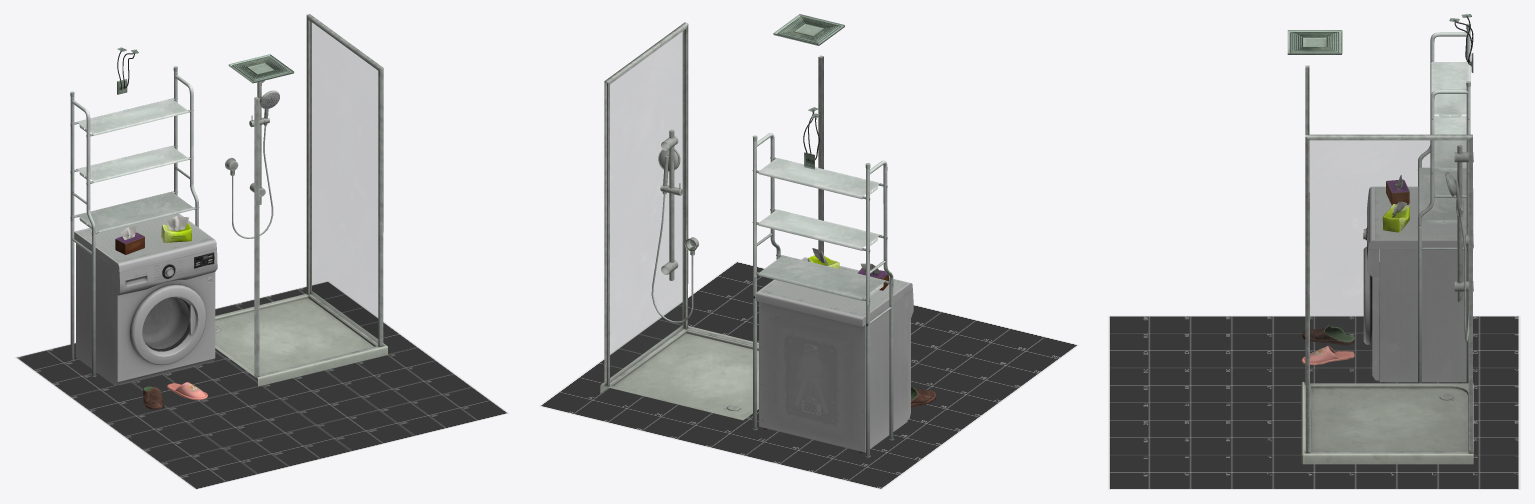
Rendered from bathroomset.glb.
3 renders of one model, left to right at view 1: azimuth 30°, elevation 25°; view 2: azimuth 150°, elevation 25°; view 3: azimuth 270°, elevation 25°, orthographic. The views are drawn at different scales.
Parts seen in each view (by area): view 1: Plane.001; view 2: Plane.001; view 3: Plane.001.
Part boxes in pixels (x1=…): Plane.001: x1=15, y1=14, x2=509, y2=489; Plane.001: x1=539, y1=14, x2=1078, y2=489; Plane.001: x1=1108, y1=14, x2=1520, y2=489.
Bounding box in the file's own units: 2.5 × 2.41 × 2.5.
Materials: 3 (3 with a texture image).
